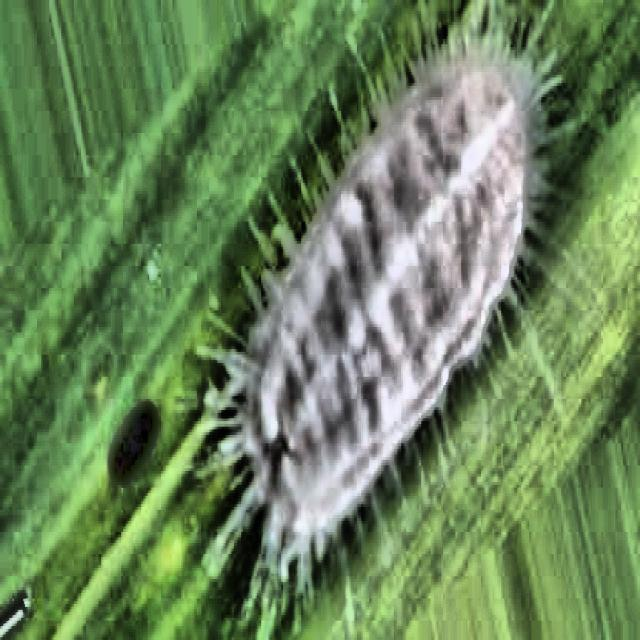Mealy-bug: (158, 14, 610, 636)
